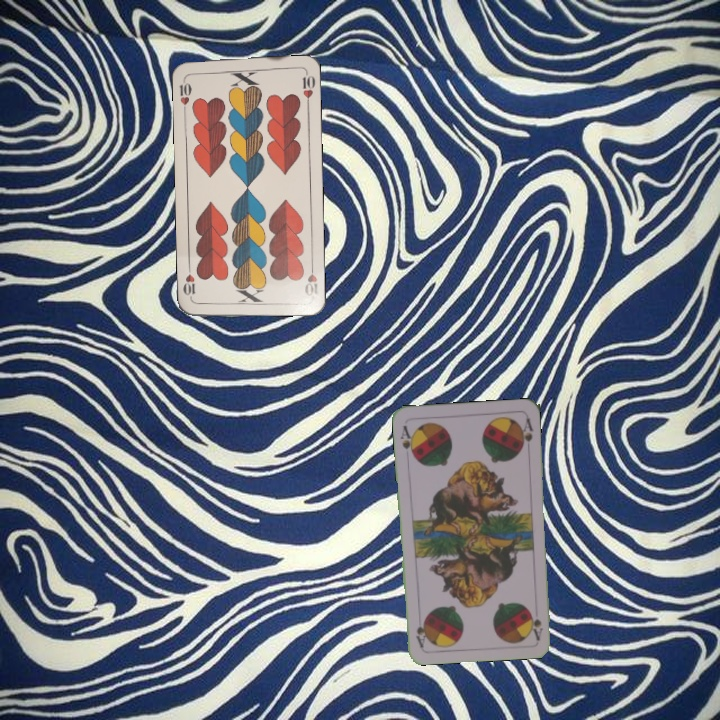H10: (301, 259, 321, 298), (175, 73, 194, 113)
SA: (396, 422, 417, 460), (528, 609, 546, 642)
